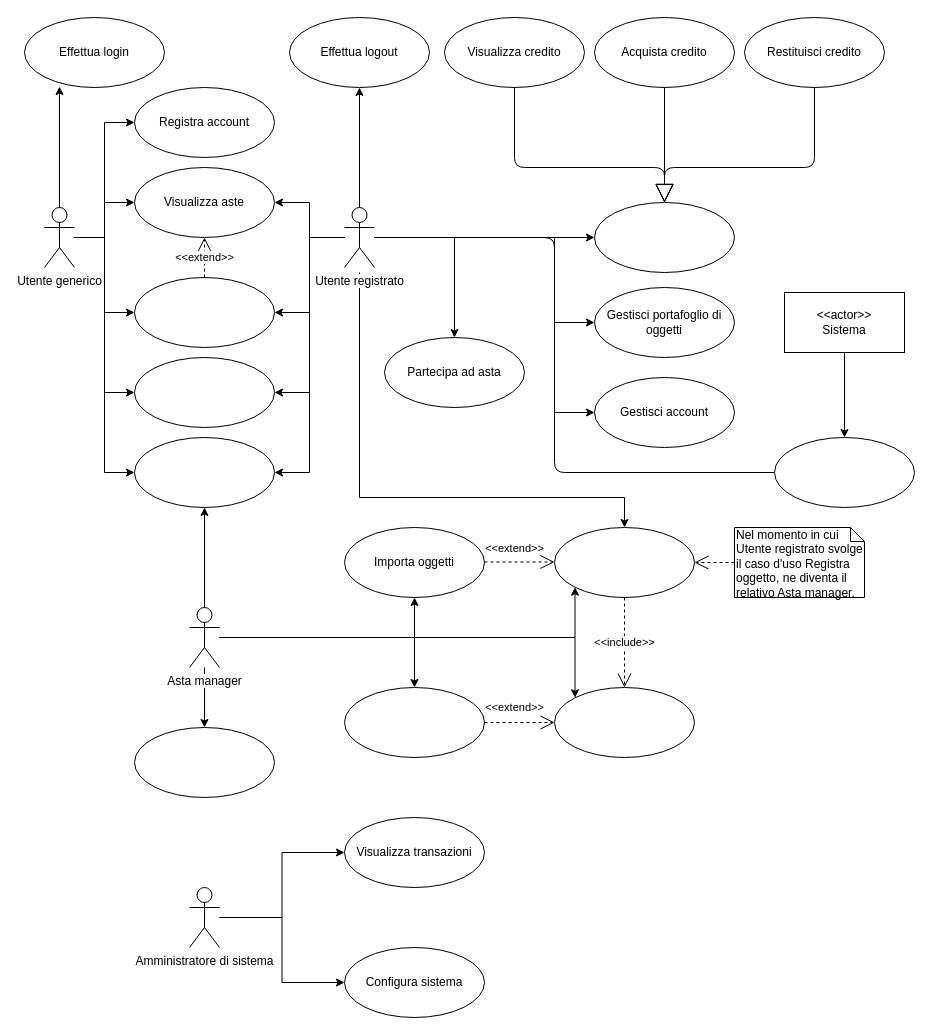
Image size: 932x1035. Some labels were removed from this diagram. Here are the shapes that lost their labels. From the top down, the box of each, then its label:
(594, 202, 734, 272): Gestisci credito
(134, 276, 274, 348): Ricerca aste
(134, 356, 274, 428): Visualizza informazioni/help
(134, 436, 274, 508): Esporta oggetti
(774, 436, 914, 508): Invia notifiche
(554, 526, 694, 598): Registra oggetto
(344, 686, 484, 758): Crea categoria
(554, 686, 694, 758): Specifica categoria e attributi
(134, 726, 274, 798): Annulla asta
